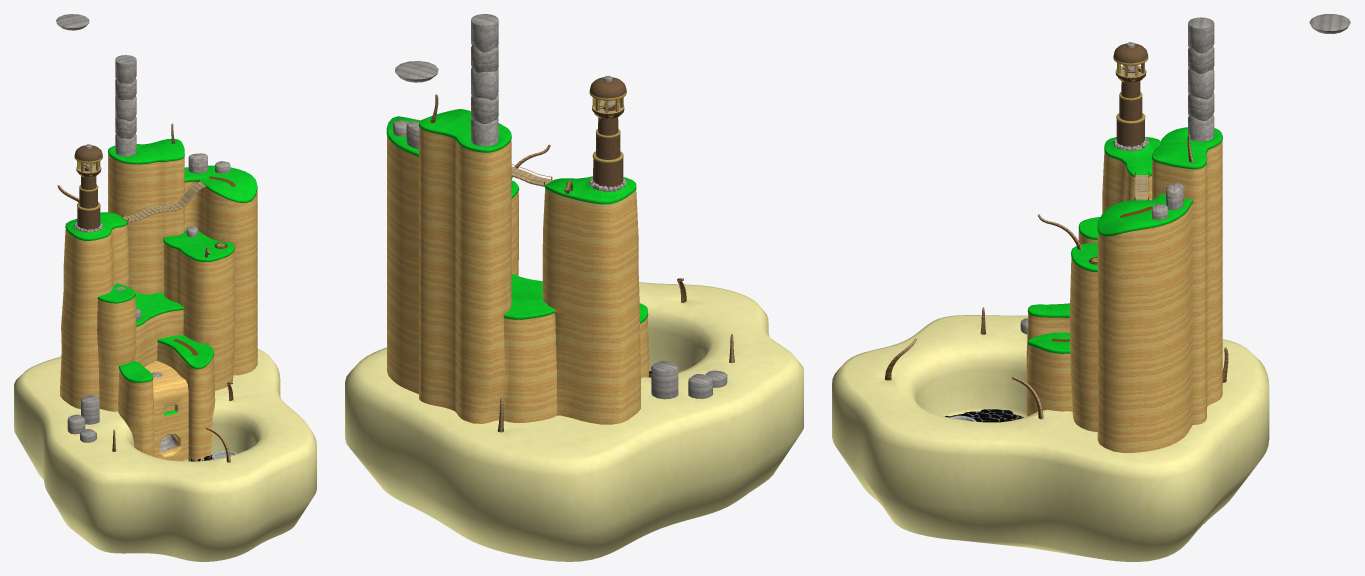
File: SunBeachPlanet.fbx
3 views of the same model, side by side, from view 1: azimuth 30°, elevation 25°; view 2: azimuth 150°, elevation 25°; view 3: azimuth 270°, elevation 25° (orthographic). The views are drawn at different scales.
Parts seen in each view (by area): view 1: FloatyBeachTheSecond.009; view 2: FloatyBeachTheSecond.009; view 3: FloatyBeachTheSecond.009.
Boxes of the visible parts, box(x1,y1,x2,y2) form: FloatyBeachTheSecond.009: box(14, 14, 316, 561); FloatyBeachTheSecond.009: box(345, 14, 803, 561); FloatyBeachTheSecond.009: box(832, 14, 1350, 561).
Size of the model in its own units: 1151726 by 1789800 by 1602573.
